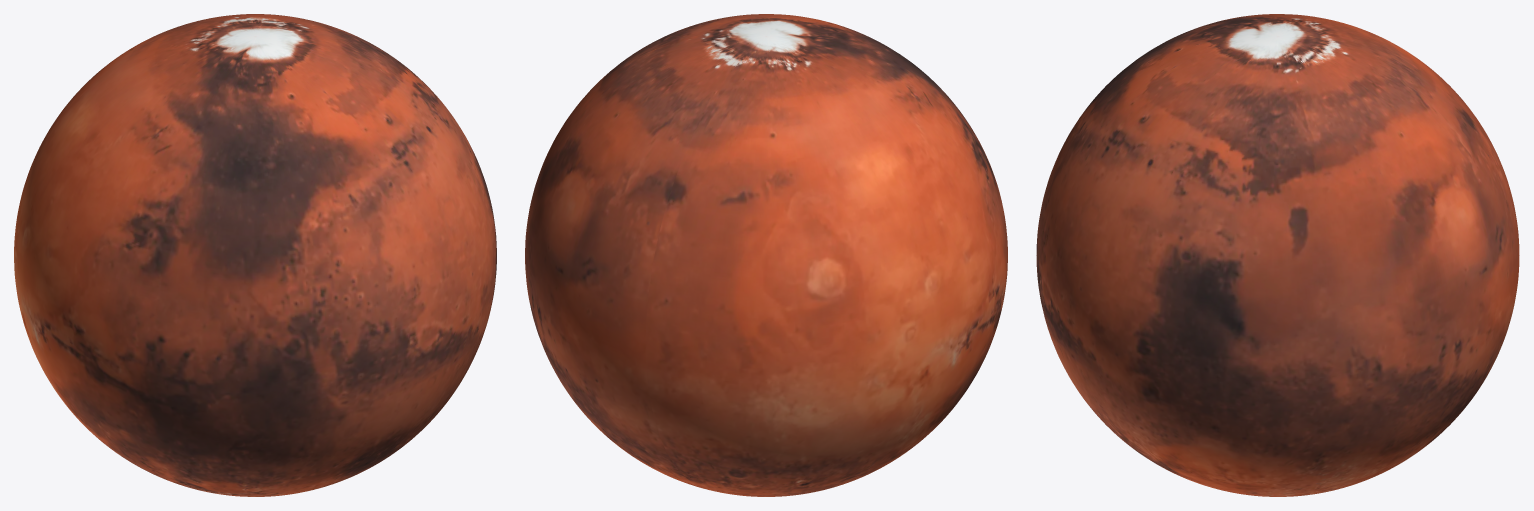
Rendered from planet_16.glb.
The picture shows the model from 3 angles, left to right: view 1: azimuth 30°, elevation 25°; view 2: azimuth 150°, elevation 25°; view 3: azimuth 270°, elevation 25°; orthographic projection.
Visible parts, largest first — view 1: converted.glb; view 2: converted.glb; view 3: converted.glb.
Part boxes in pixels (left/top/right/bottom): converted.glb: left=14, top=14, right=496, bottom=496; converted.glb: left=525, top=14, right=1007, bottom=496; converted.glb: left=1036, top=14, right=1519, bottom=496.
Size of the model in its own units: 1 by 1 by 1.
1 material, 1 textured.
